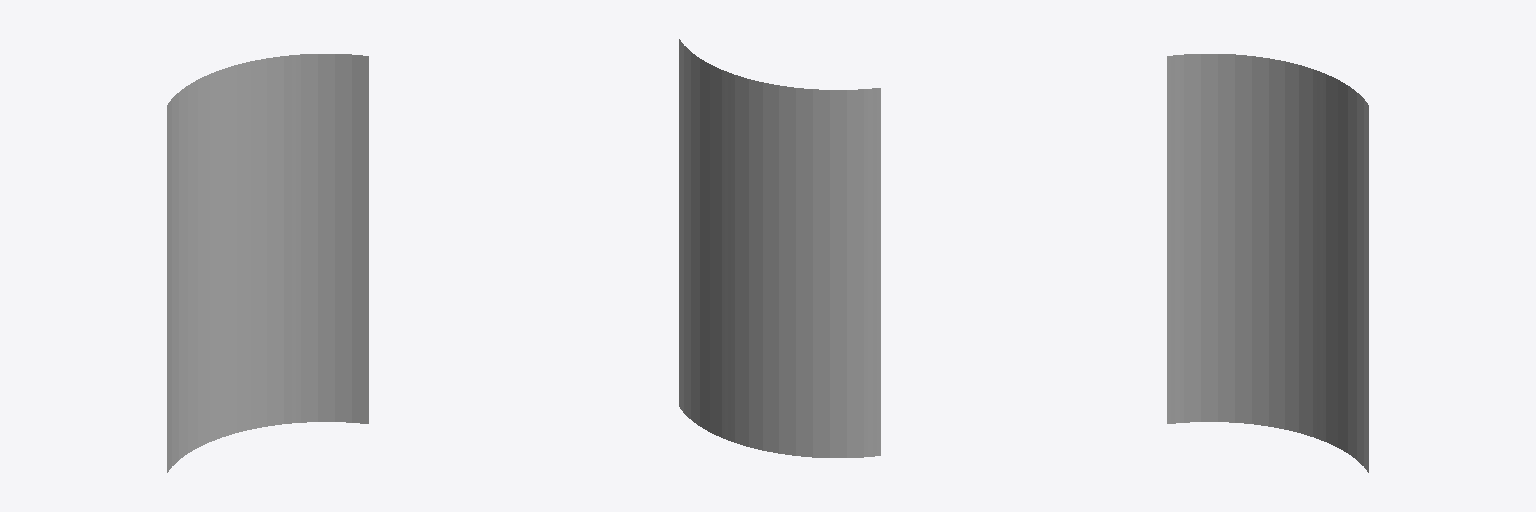
Rendered from ProjectionPlanesBlended.obj.
3 renders of one model, left to right at view 1: azimuth 30°, elevation 25°; view 2: azimuth 150°, elevation 25°; view 3: azimuth 330°, elevation 25°, orthographic.
Visible parts, largest first — view 1: mesh7; view 2: mesh7; view 3: mesh7.
Boxes of the visible parts, <box> form: mesh7: <box>167,54,368,472</box>; mesh7: <box>679,39,880,457</box>; mesh7: <box>1167,54,1368,472</box>.
Bounding box in the file's own units: 0.0287 × 0.05 × 0.0059.